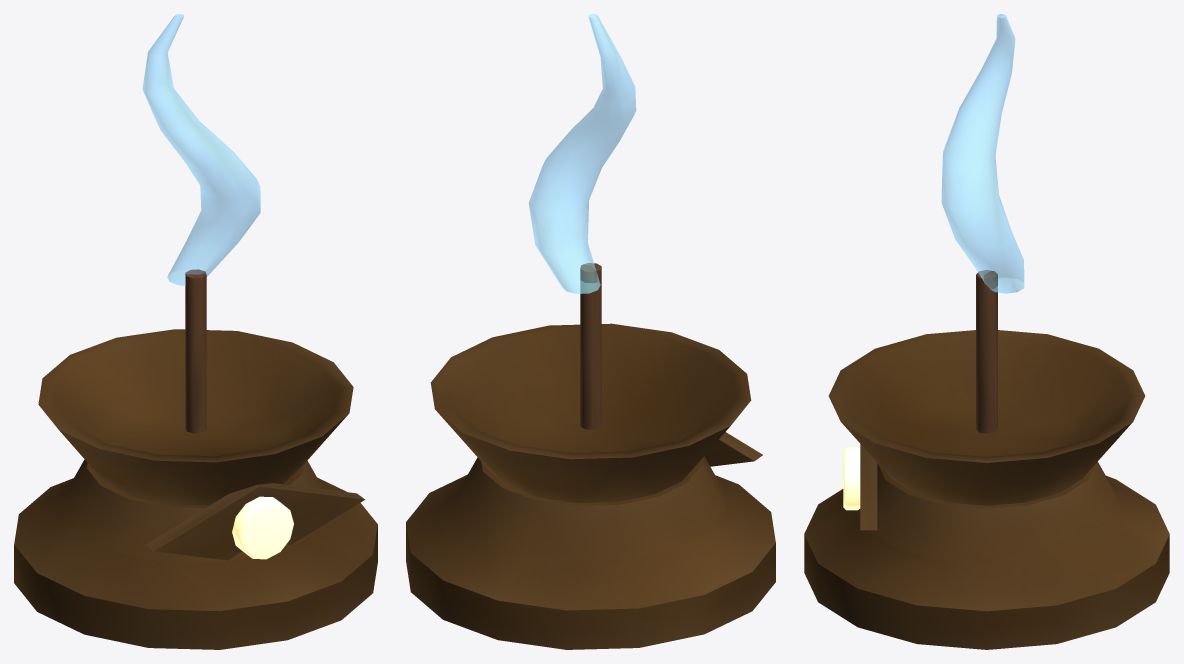
File: Furn_Place_SeeThroughIncense.fbx
3 views of the same model, side by side, from view 1: azimuth 30°, elevation 25°; view 2: azimuth 150°, elevation 25°; view 3: azimuth 270°, elevation 25° (orthographic). The views are drawn at different scales.
Visible parts, largest first — view 1: Furn_Place_SeeThroughIncense; view 2: Furn_Place_SeeThroughIncense; view 3: Furn_Place_SeeThroughIncense.
Part boxes in pixels (bbox=[...]): Furn_Place_SeeThroughIncense: bbox=[14, 14, 377, 649]; Furn_Place_SeeThroughIncense: bbox=[406, 14, 775, 649]; Furn_Place_SeeThroughIncense: bbox=[804, 14, 1169, 649].
Size of the model in its own units: 0.3 by 0.5 by 0.3.
4 materials, 2 textured.
